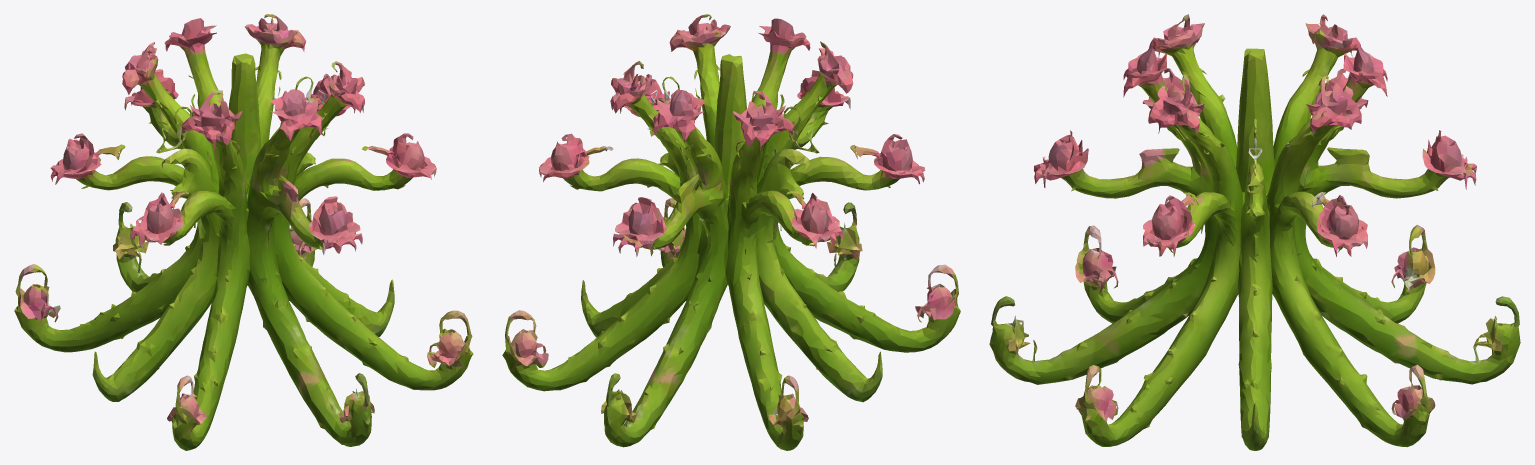
File: forest_vine.glb
The picture shows the model from 3 angles, left to right: view 1: azimuth 30°, elevation 25°; view 2: azimuth 150°, elevation 25°; view 3: azimuth 270°, elevation 25°; orthographic projection. The views are drawn at different scales.
Parts seen in each view (by area): view 1: forest_vine; view 2: forest_vine; view 3: forest_vine.
Boxes of the visible parts, left/top/right/bottom form: forest_vine: left=14, top=14, right=473, bottom=450; forest_vine: left=502, top=14, right=960, bottom=450; forest_vine: left=989, top=14, right=1520, bottom=450.
Bounding box in the file's own units: 1.32 × 1.33 × 1.89.
Materials: 1 (1 with a texture image).
